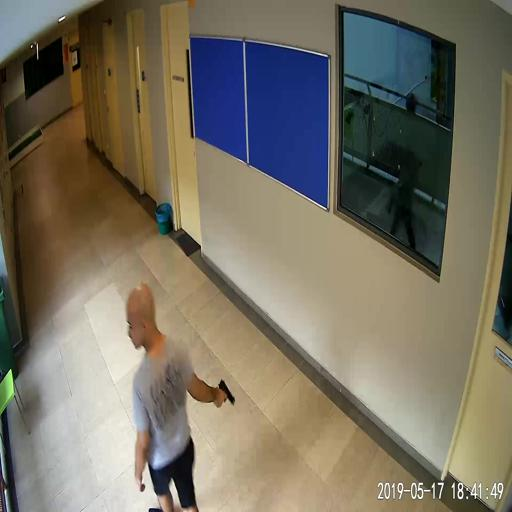pistol: (218, 379, 234, 407)
